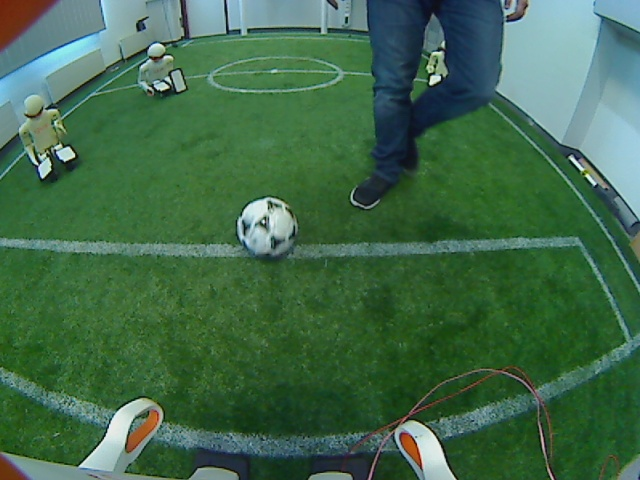ball: (234, 196, 302, 261)
robot: (15, 93, 83, 185), (134, 39, 189, 102), (426, 32, 456, 90)
